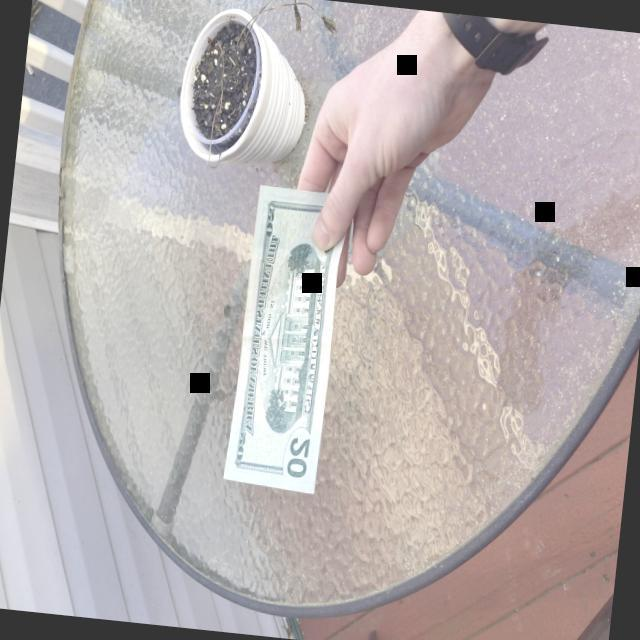twenty: (221, 184, 346, 494)
